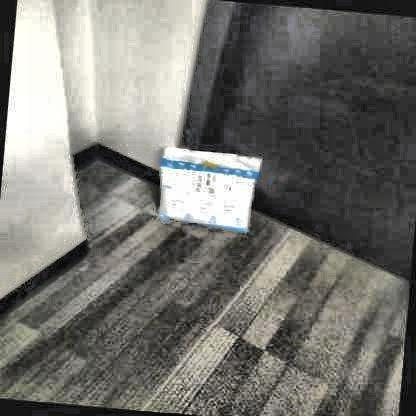no defect parcel: (160, 145, 261, 234)
